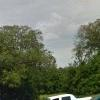Tree: (65, 22, 100, 100)
